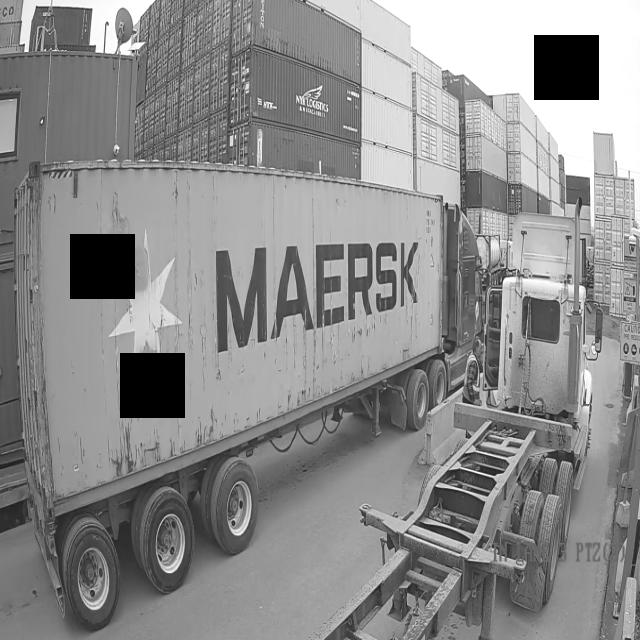container_company_logo: (211, 231, 423, 365)
driver: (463, 339, 480, 403)
truck_with_container: (14, 160, 483, 628)
truck_without_container: (308, 216, 602, 640)
